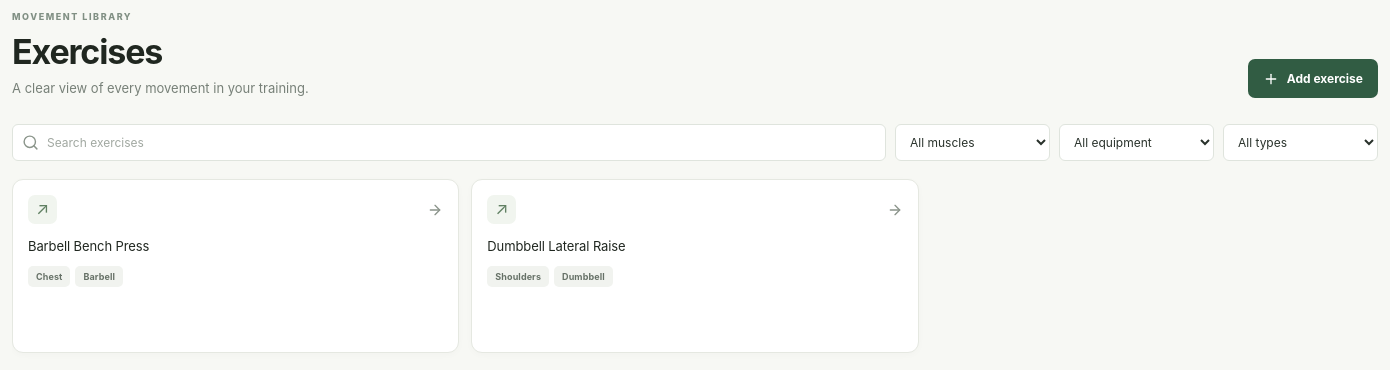
Level Up frontend › shows exercise library search using loaded exercises
Expected: the heading "Exercises" is shown, [12,31,162,72]
Expected: the heading "Barbell Bench Press" is shown, [28,238,149,254]
Type "lateral" into the field labelled "Search exercises" at (449, 143), box [12,124,886,161]
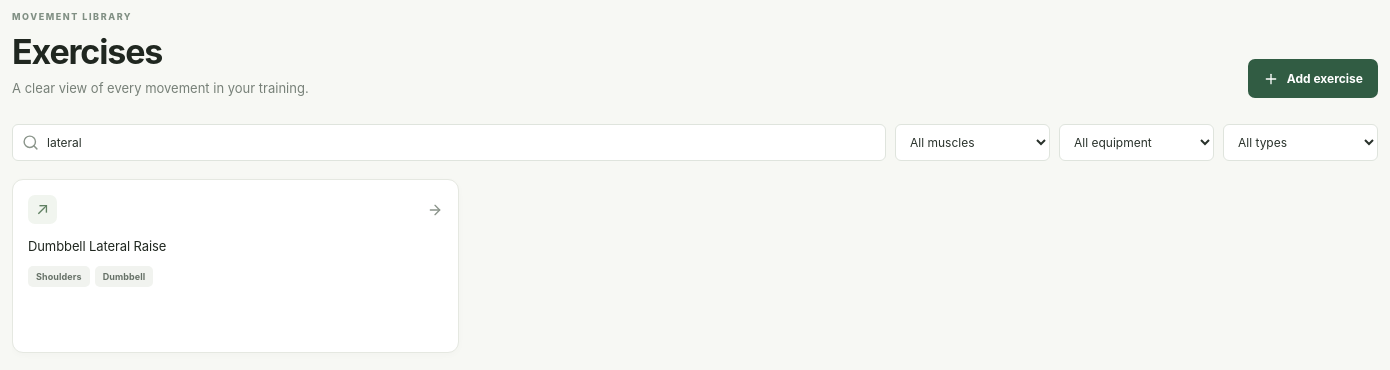
Expected: the heading "Dumbbell Lateral Raise" is shown, [28,238,166,254]
Expected: the link "Barbell Bench Press" is gone
